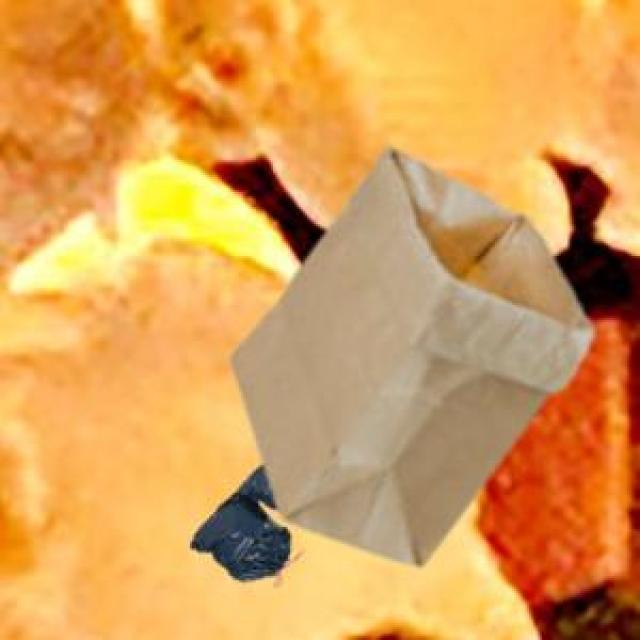miscellaneous trash: (188, 461, 286, 576)
paper: (226, 145, 589, 561)
